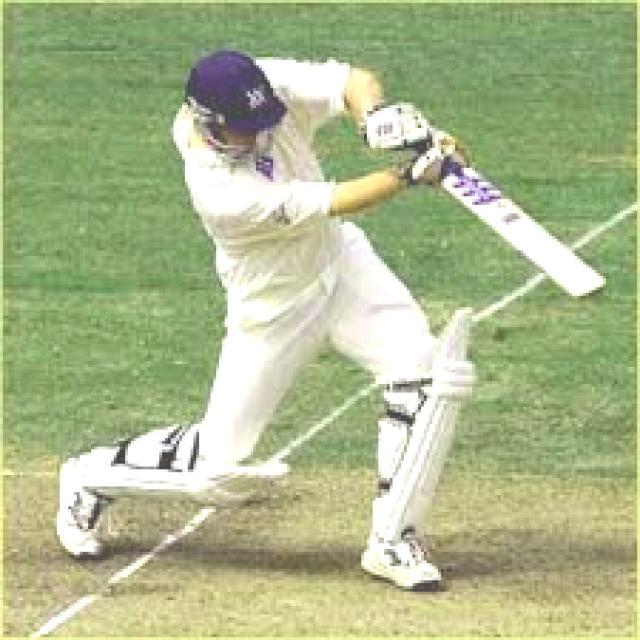bat: (439, 164, 609, 303)
toe: (571, 285, 614, 301)
